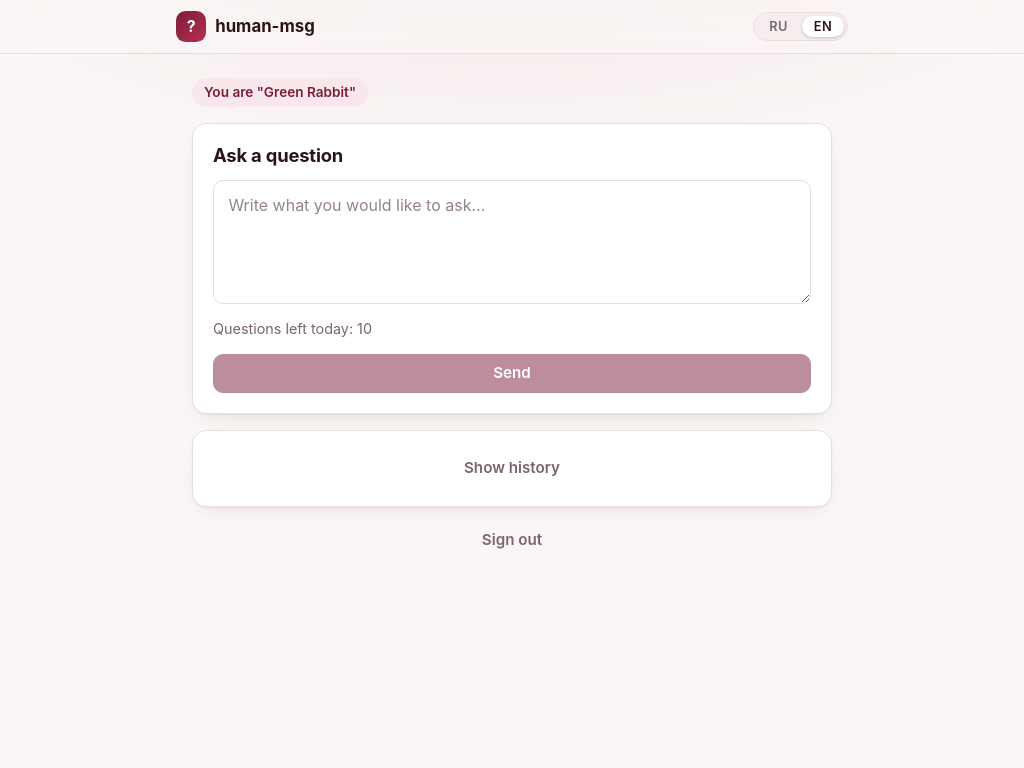
history › formats times in the language of the user
Click the button "Show history" at {"x": 512, "y": 468}, box [213,451,811,486]
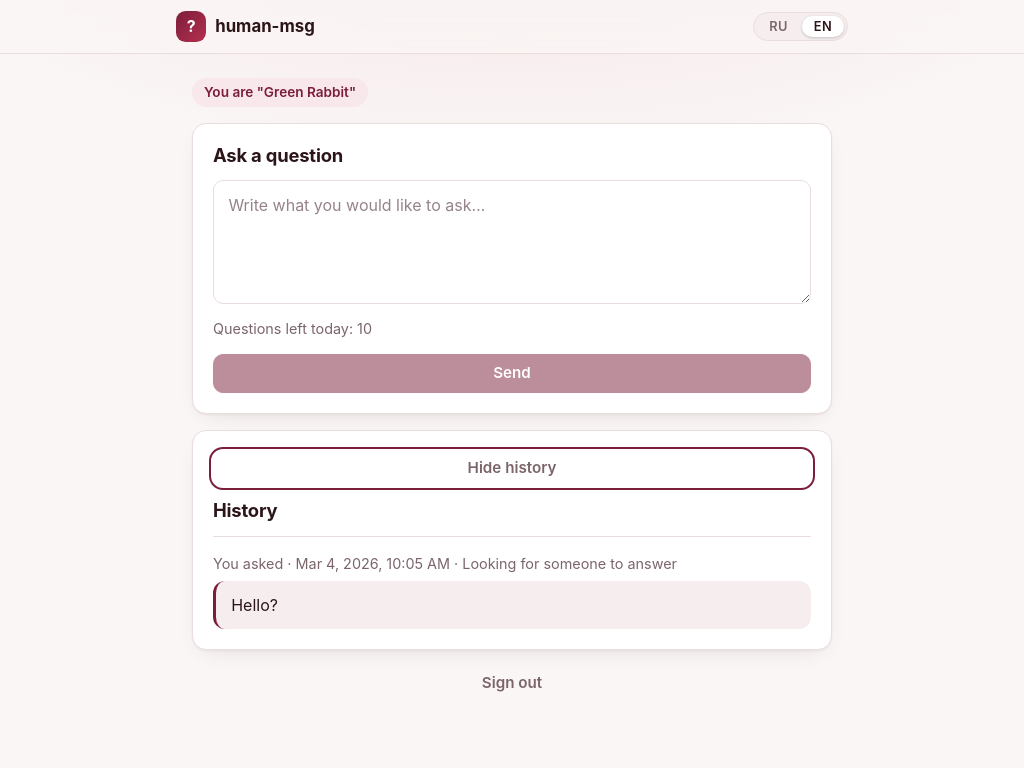
Now the list item with test id "history-question" shows "Mar 4, 2026", box [296,555,450,572]
Now the text "Looking for someone to answer" is shown, box [462,555,677,572]
